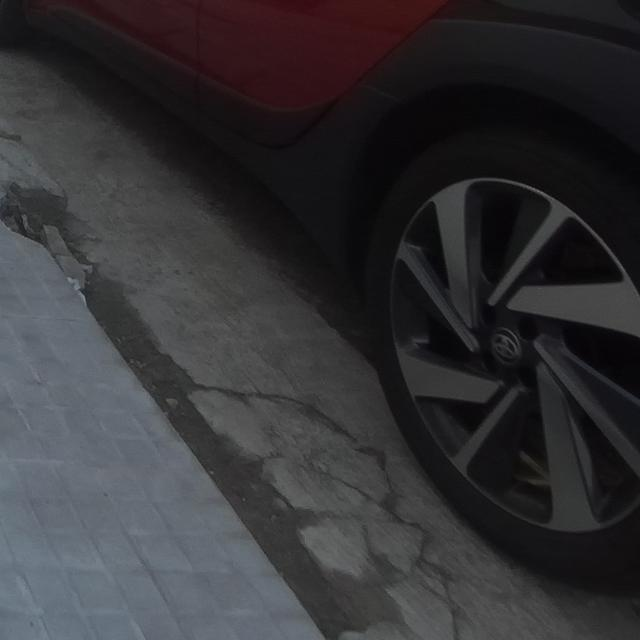calcada_quebrada: (187, 380, 357, 445), (365, 535, 459, 636), (301, 465, 425, 532)
